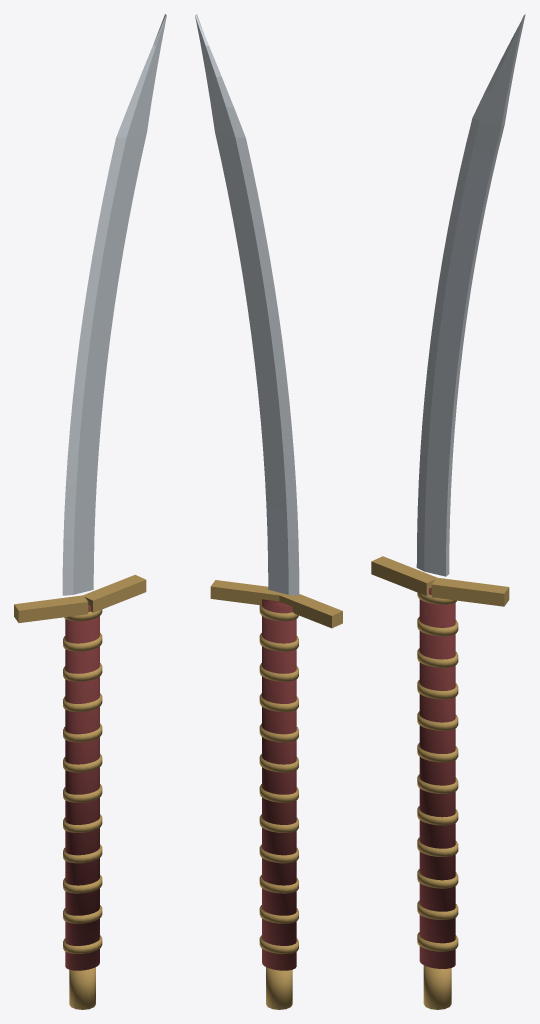
File: katana-regal.fbx
3 renders of one model, left to right at view 1: azimuth 30°, elevation 25°; view 2: azimuth 150°, elevation 25°; view 3: azimuth 330°, elevation 25°, orthographic. The views are drawn at different scales.
Parts seen in each view (by area): view 1: KatanaRegalBlade, KatanaRegalHandle, KatanaRegalGuardWing-1, KatanaRegalGuardWing1, KatanaRegalPommelNeck, KatanaRegalWrap01, KatanaRegalWrap06, KatanaRegalWrap10, KatanaRegalWrap03, KatanaRegalWrap07, KatanaRegalWrap02, KatanaRegalWrap05 (+1 smaller); view 2: KatanaRegalBlade, KatanaRegalHandle, KatanaRegalGuardWing1, KatanaRegalGuardWing-1, KatanaRegalPommelNeck, KatanaRegalWrap06, KatanaRegalWrap10, KatanaRegalWrap01, KatanaRegalWrap03, KatanaRegalWrap02, KatanaRegalWrap05, KatanaRegalWrap07 (+4 smaller); view 3: KatanaRegalBlade, KatanaRegalHandle, KatanaRegalGuardWing1, KatanaRegalGuardWing-1, KatanaRegalPommelNeck, KatanaRegalWrap10, KatanaRegalWrap01, KatanaRegalWrap06, KatanaRegalWrap08, KatanaRegalWrap00, KatanaRegalWrap04, KatanaRegalWrap03 (+4 smaller).
Boxes of the visible parts, x1,y1,x2,y2 form: KatanaRegalBlade: (62, 14, 166, 595); KatanaRegalHandle: (65, 605, 99, 970); KatanaRegalGuardWing-1: (14, 595, 88, 622); KatanaRegalGuardWing1: (82, 574, 146, 612); KatanaRegalPommelNeck: (69, 967, 95, 1009); KatanaRegalWrap01: (63, 905, 102, 923); KatanaRegalWrap06: (63, 754, 102, 772); KatanaRegalWrap10: (63, 633, 102, 651); KatanaRegalWrap03: (63, 844, 102, 863); KatanaRegalWrap07: (63, 723, 102, 742); KatanaRegalWrap02: (63, 875, 102, 893); KatanaRegalWrap05: (63, 784, 102, 802); KatanaRegalBlade: (195, 14, 299, 595); KatanaRegalHandle: (262, 599, 296, 970); KatanaRegalGuardWing1: (210, 580, 281, 604); KatanaRegalGuardWing-1: (279, 593, 342, 628); KatanaRegalPommelNeck: (266, 967, 292, 1009); KatanaRegalWrap06: (259, 754, 298, 772); KatanaRegalWrap10: (259, 633, 298, 651); KatanaRegalWrap01: (259, 905, 298, 923); KatanaRegalWrap03: (259, 844, 298, 863); KatanaRegalWrap02: (259, 875, 298, 893); KatanaRegalWrap05: (259, 784, 298, 802); KatanaRegalWrap07: (259, 723, 298, 742); KatanaRegalBlade: (416, 14, 525, 576); KatanaRegalHandle: (419, 587, 455, 968); KatanaRegalGuardWing1: (431, 578, 509, 606); KatanaRegalGuardWing-1: (371, 556, 437, 595); KatanaRegalPommelNeck: (423, 965, 451, 1009); KatanaRegalWrap10: (417, 616, 458, 636); KatanaRegalWrap01: (417, 900, 458, 919); KatanaRegalWrap06: (417, 743, 458, 762); KatanaRegalWrap08: (417, 680, 458, 699); KatanaRegalWrap00: (417, 932, 458, 951); KatanaRegalWrap04: (417, 806, 458, 825); KatanaRegalWrap03: (417, 837, 458, 856).
Size of the model in its own units: 0.174 by 1.09 by 0.0329.
